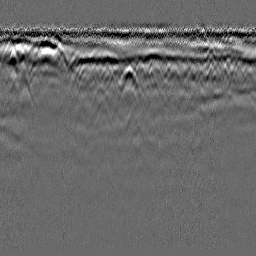cavity: (116, 64, 143, 98)
